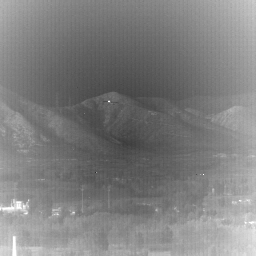aircraft: (108, 100, 110, 102)
